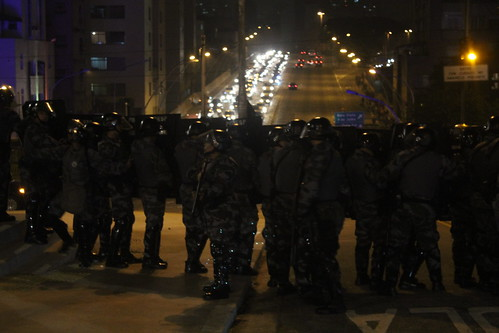policeman: (297, 126, 363, 316), (384, 121, 449, 294), (338, 112, 397, 298), (187, 127, 247, 304), (446, 117, 498, 280), (129, 111, 178, 272), (90, 107, 137, 269), (22, 104, 63, 244), (55, 114, 96, 254)
